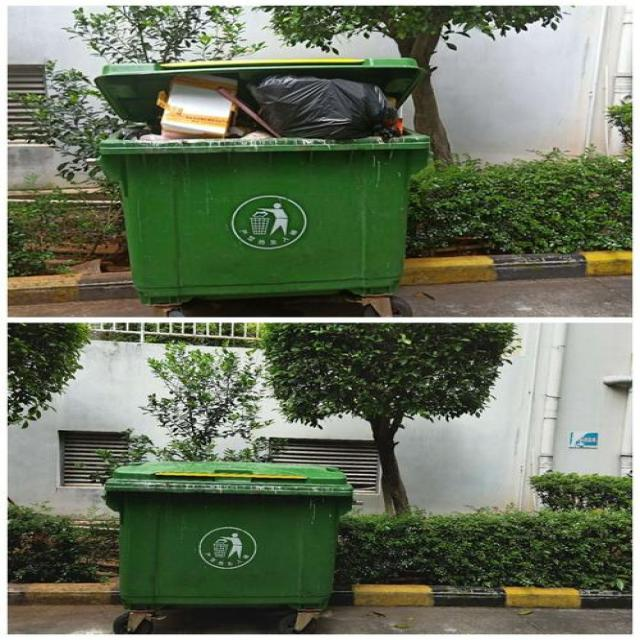garbage_bin: (101, 460, 351, 608)
overflow: (94, 58, 432, 304)
